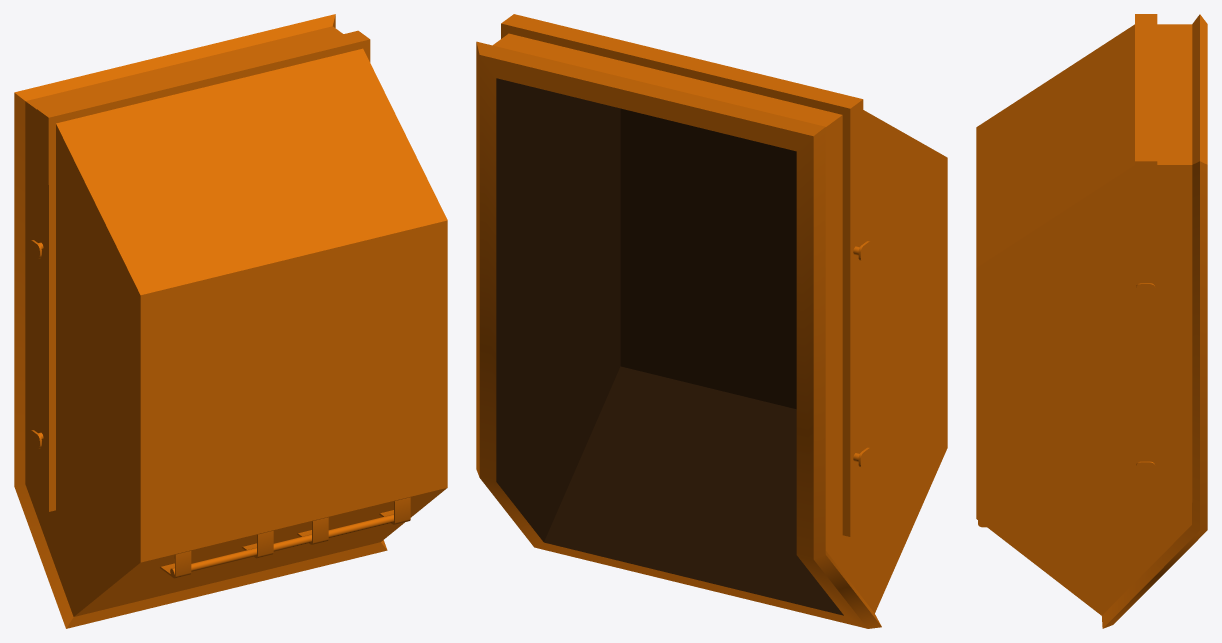
File: StationaryDumpster_01.fbx
3 views of the same model, side by side, from view 1: azimuth 30°, elevation 25°; view 2: azimuth 150°, elevation 25°; view 3: azimuth 270°, elevation 25° (orthographic). The views are drawn at different scales.
Visible parts, largest first — view 1: StationaryDumpster_low; view 2: StationaryDumpster_low; view 3: StationaryDumpster_low.
Part boxes in pixels (bbox=[...]): StationaryDumpster_low: bbox=[14, 14, 447, 628]; StationaryDumpster_low: bbox=[476, 14, 947, 628]; StationaryDumpster_low: bbox=[976, 14, 1207, 628].
Bounding box in the file's own units: 1.9 × 2.67 × 1.2.
